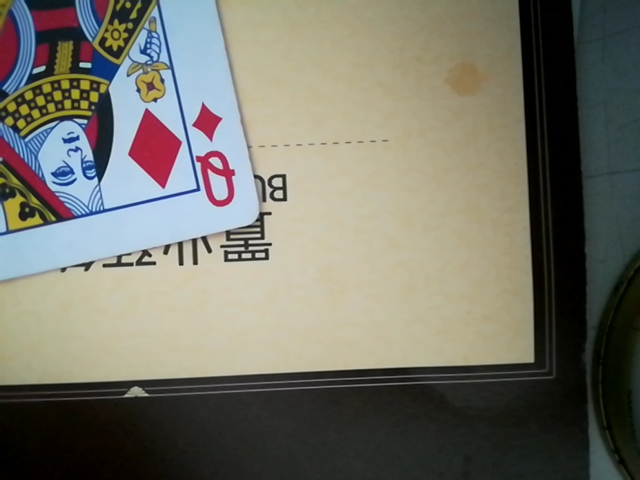fk q: (0, 0, 259, 305)
